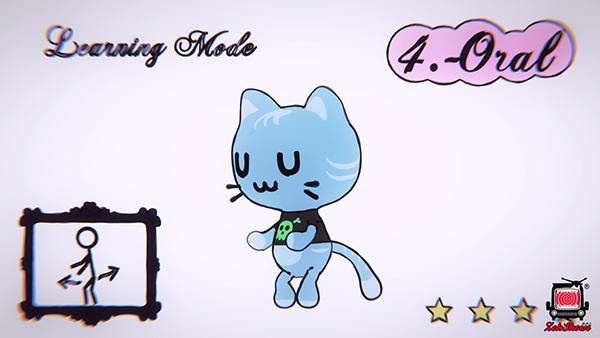cat: (214, 85, 395, 314)
